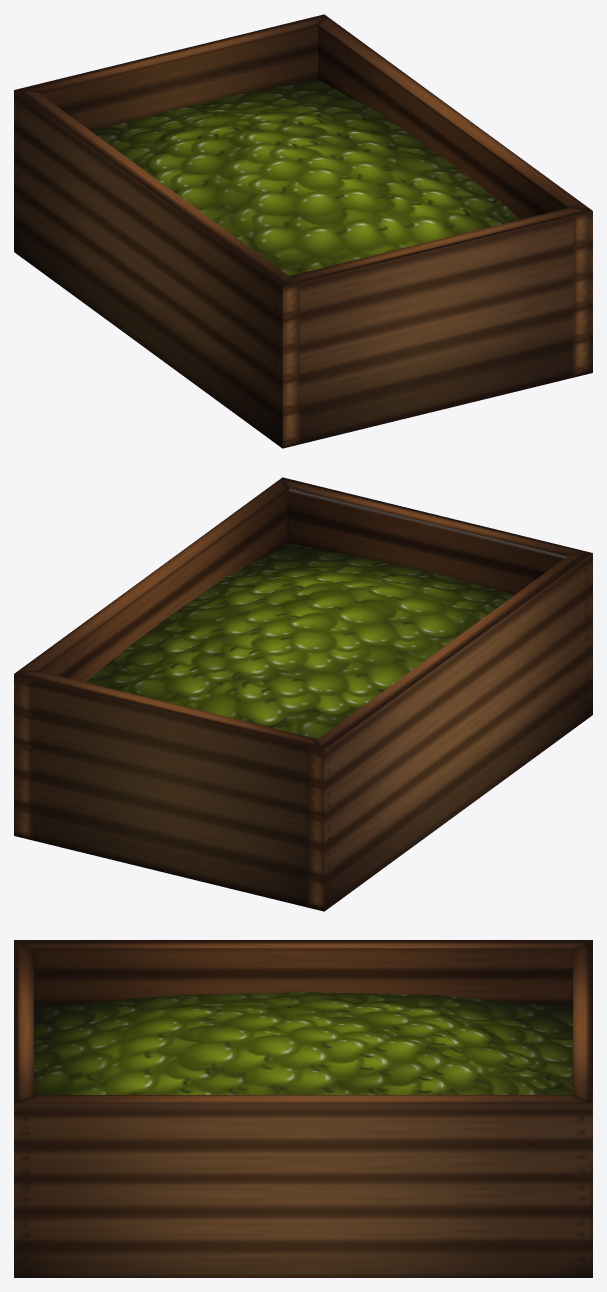
File: Box_2_full.fbx
3 views of the same model, one above another, from view 1: azimuth 30°, elevation 25°; view 2: azimuth 150°, elevation 25°; view 3: azimuth 270°, elevation 25° (orthographic). The views are drawn at different scales.
Parts seen in each view (by area): view 1: box_2_full; view 2: box_2_full; view 3: box_2_full.
Boxes of the visible parts, box(x1,y1,x2,y2) form: box_2_full: box(14, 14, 592, 448); box_2_full: box(14, 477, 592, 911); box_2_full: box(14, 940, 592, 1277).
Size of the model in its own units: 9.1 by 4.54 by 13.64.
